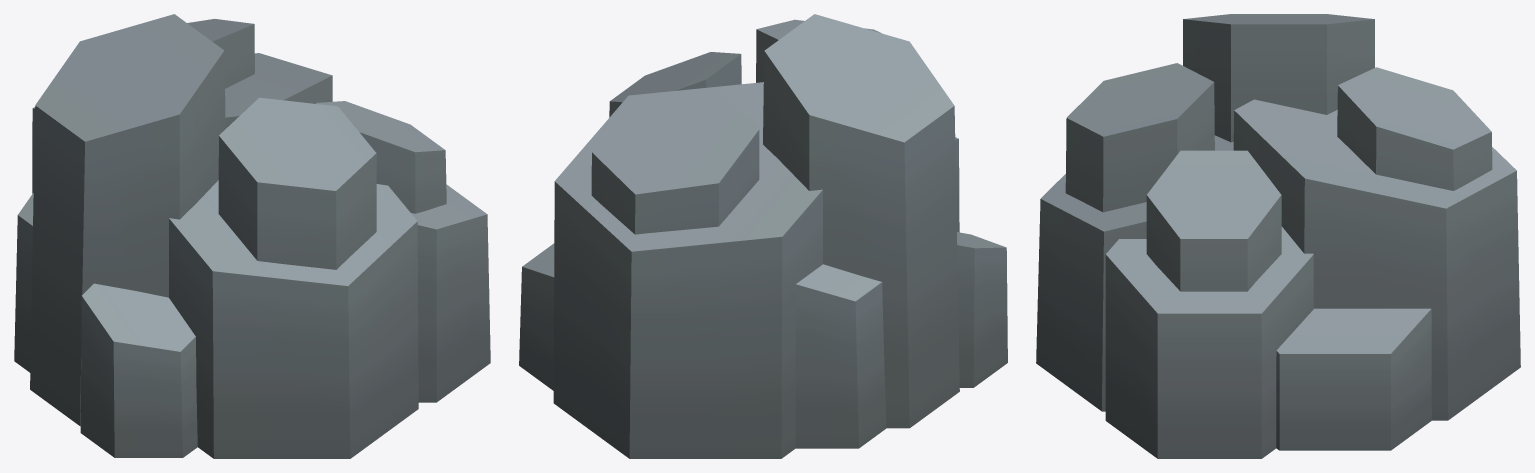
Rendered from kay-montanha-c.gltf.
3 views of the same model, side by side, from view 1: azimuth 30°, elevation 25°; view 2: azimuth 150°, elevation 25°; view 3: azimuth 270°, elevation 25° (orthographic). The views are drawn at different scales.
Parts seen in each view (by area): view 1: mountain_C; view 2: mountain_C; view 3: mountain_C.
Boxes of the visible parts, box(x1,y1,x2,y2) form: mountain_C: box(14, 14, 490, 458); mountain_C: box(519, 14, 1007, 458); mountain_C: box(1036, 14, 1520, 458).
Size of the model in its own units: 8.79 by 7.54 by 10.11.
Materials: 1 (1 with a texture image).
